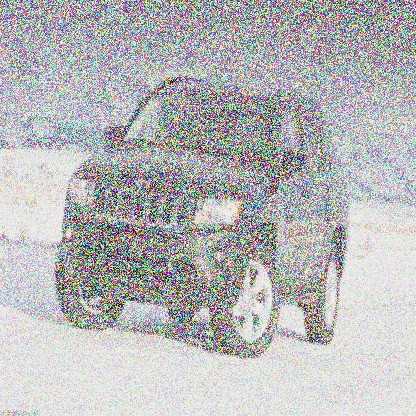Vehicle: (55, 76, 349, 360)
